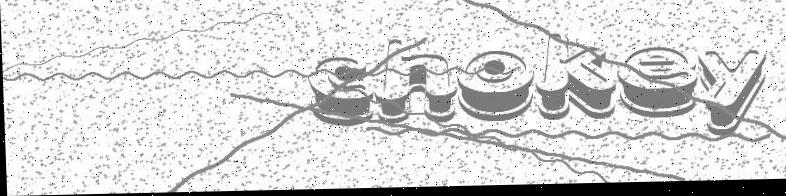c: (306, 49, 377, 128)
e: (616, 44, 699, 122)
h: (374, 39, 454, 124)
k: (534, 29, 617, 123)
o: (454, 48, 538, 125)
y: (695, 50, 769, 136)
